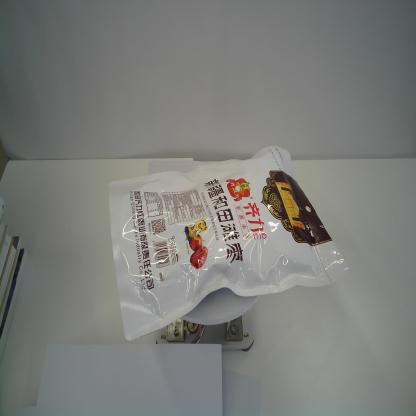Dried Food: (107, 145, 352, 341)
